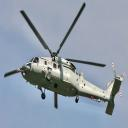helicopter: (4, 5, 128, 118)
